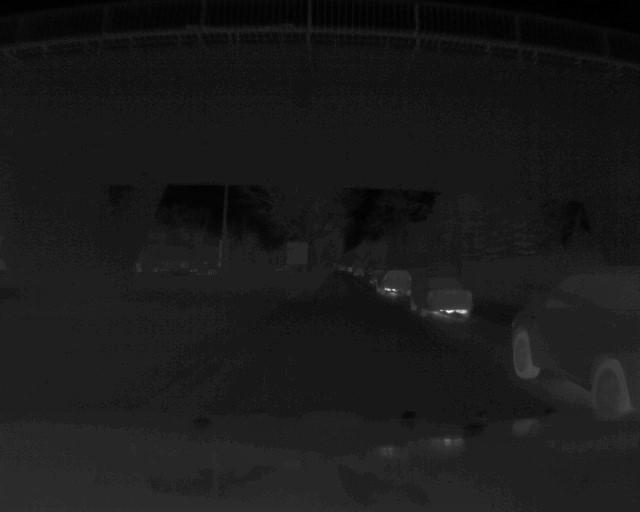car: (507, 267, 640, 422), (407, 275, 477, 320), (374, 268, 413, 298)
